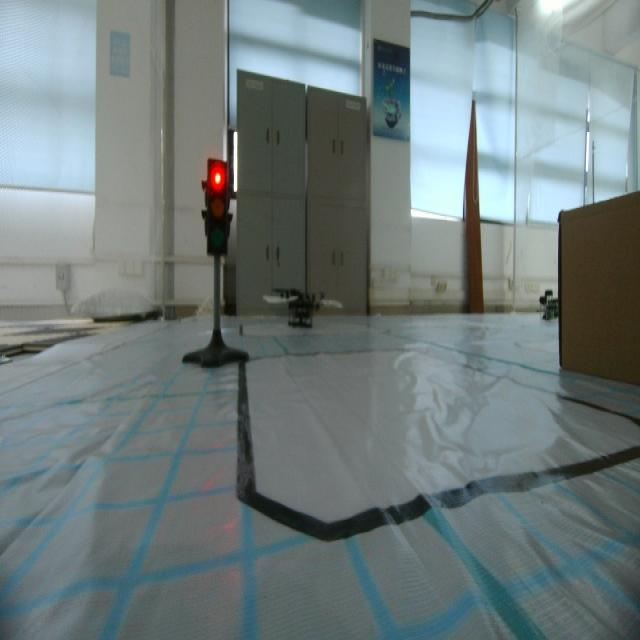red: (200, 147, 232, 263)
